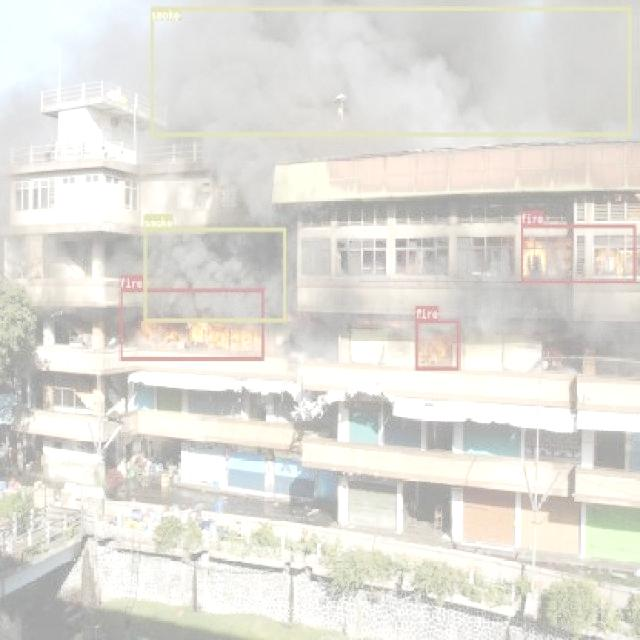fire: (119, 288, 264, 360), (519, 224, 636, 282), (414, 318, 460, 369)
smoke: (151, 6, 631, 136), (144, 228, 286, 322)
